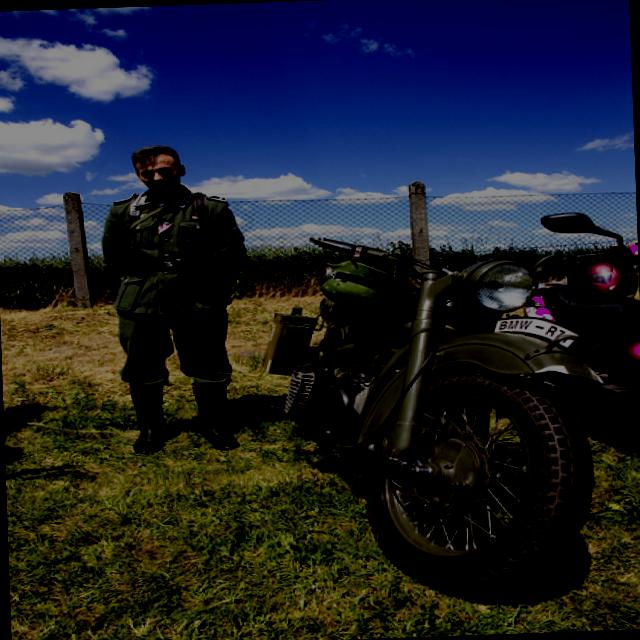Vehicle: (260, 222, 614, 598), (526, 246, 640, 454)
